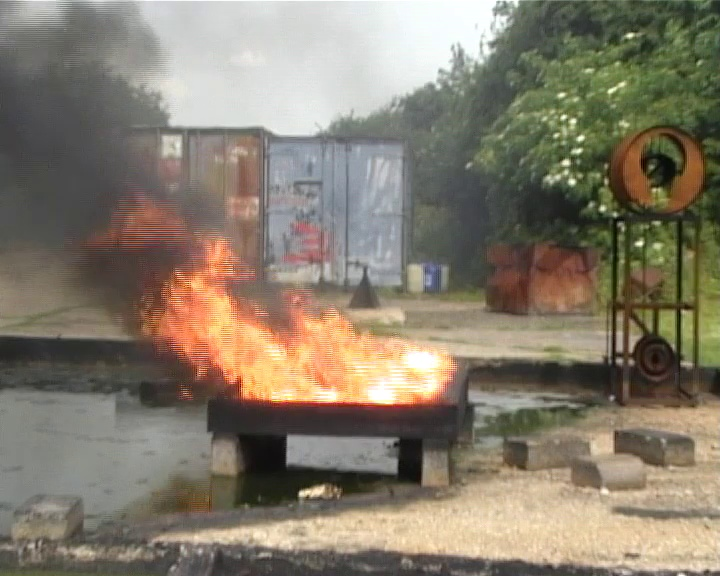fire: (140, 235, 457, 406)
